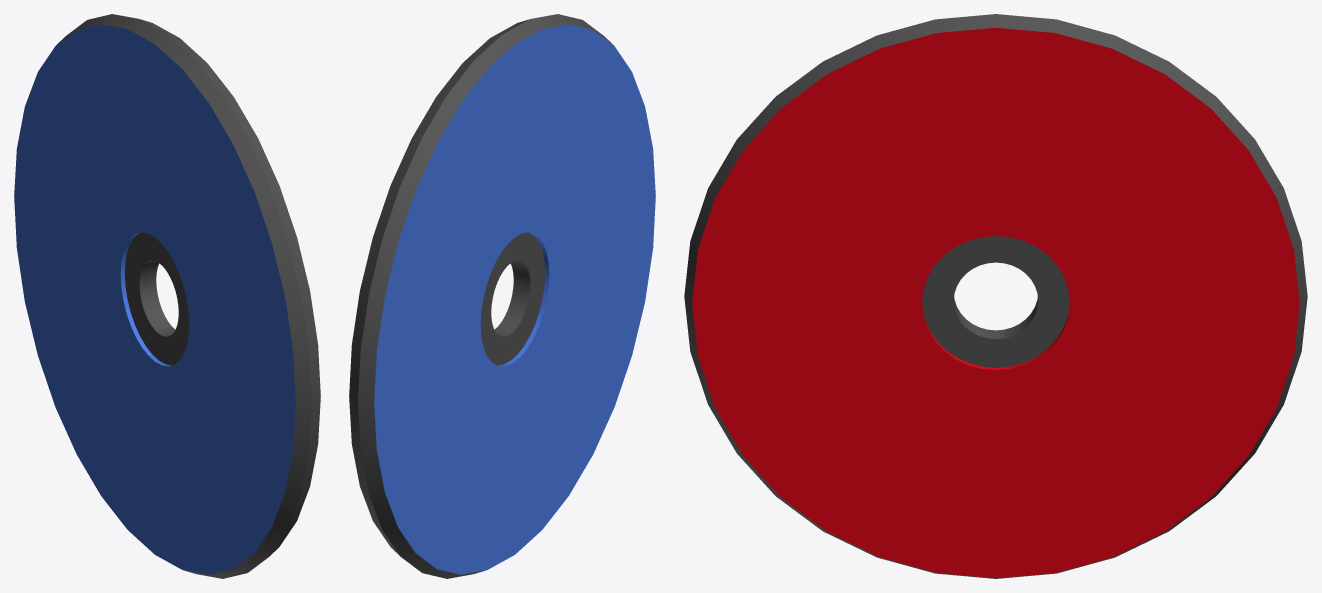
File: disc.fbx
The picture shows the model from 3 angles, left to right: view 1: azimuth 30°, elevation 25°; view 2: azimuth 150°, elevation 25°; view 3: azimuth 270°, elevation 25°; orthographic projection. The views are drawn at different scales.
Parts seen in each view (by area): view 1: Cylinder; view 2: Cylinder; view 3: Cylinder.
Part boxes in pixels (x1=…): Cylinder: x1=14, y1=14, x2=320, y2=578; Cylinder: x1=349, y1=14, x2=655, y2=578; Cylinder: x1=684, y1=14, x2=1307, y2=578.
Size of the model in its own units: 26.26 by 526 by 526.
